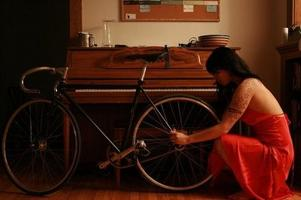person: (168, 44, 301, 200)
